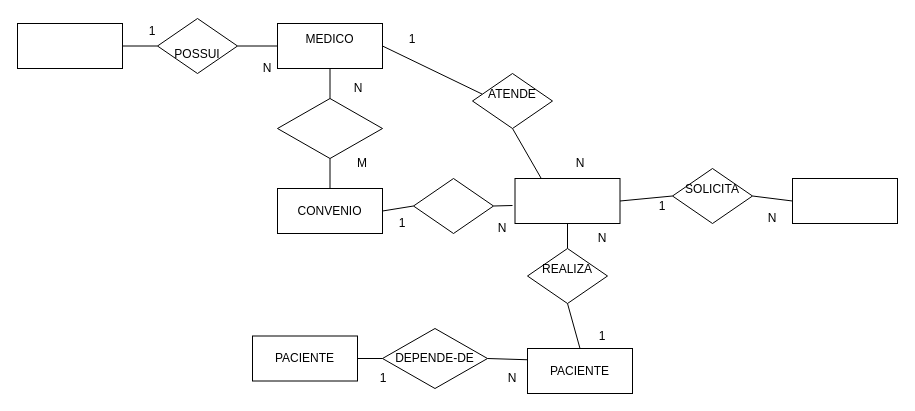
The diagram is 915 pixels wide and 411 high, and some of its shapes have lost their labels. The shapes that lost their labels are listed below. From the top down, each one's centre as x and y in pixels, then its label:
(x=69, y=45): ESPECIALIDADE
(x=329, y=128): CREDENCIADO
(x=453, y=206): PAGA
(x=567, y=201): CONSULTA
(x=845, y=201): EXAME-SOLICITADO
